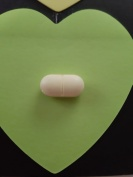Aferin: (39, 73, 85, 99)
